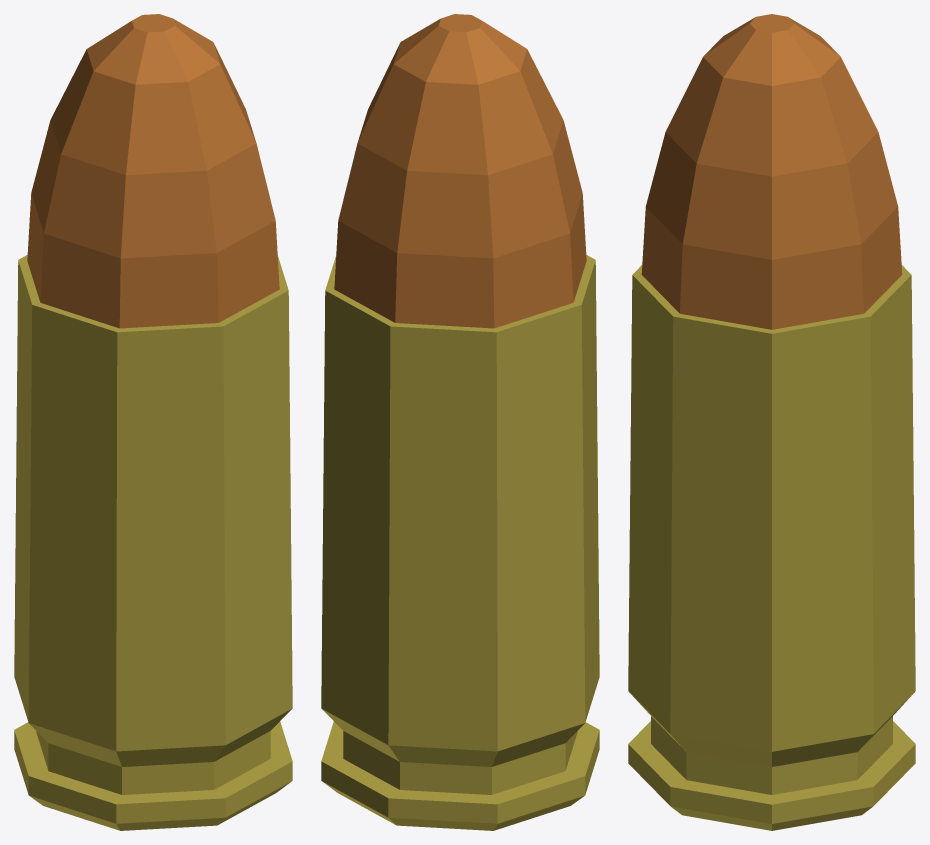
Rendered from 45acp.glb.
3 views of the same model, side by side, from view 1: azimuth 30°, elevation 25°; view 2: azimuth 150°, elevation 25°; view 3: azimuth 270°, elevation 25° (orthographic).
Parts seen in each view (by area): view 1: 919; view 2: 919; view 3: 919.
Boxes of the visible parts, box(x1,y1,x2,y2) form: 919: box(14, 14, 292, 830); 919: box(321, 14, 599, 830); 919: box(628, 14, 915, 830).
Size of the model in its own units: 0.0993 by 0.2873 by 0.0993.
